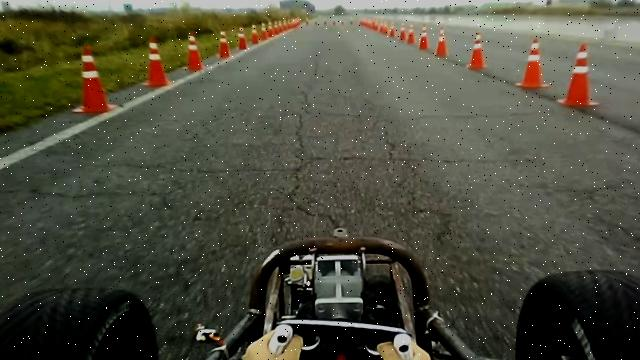red cone: (71, 44, 118, 114), (556, 43, 600, 108), (514, 38, 550, 89), (141, 35, 168, 87), (466, 32, 486, 70), (184, 30, 203, 70), (435, 27, 448, 58), (218, 30, 230, 59), (418, 25, 428, 50), (237, 26, 247, 50), (406, 25, 415, 44), (251, 24, 259, 44), (399, 25, 406, 42), (260, 23, 267, 40)
